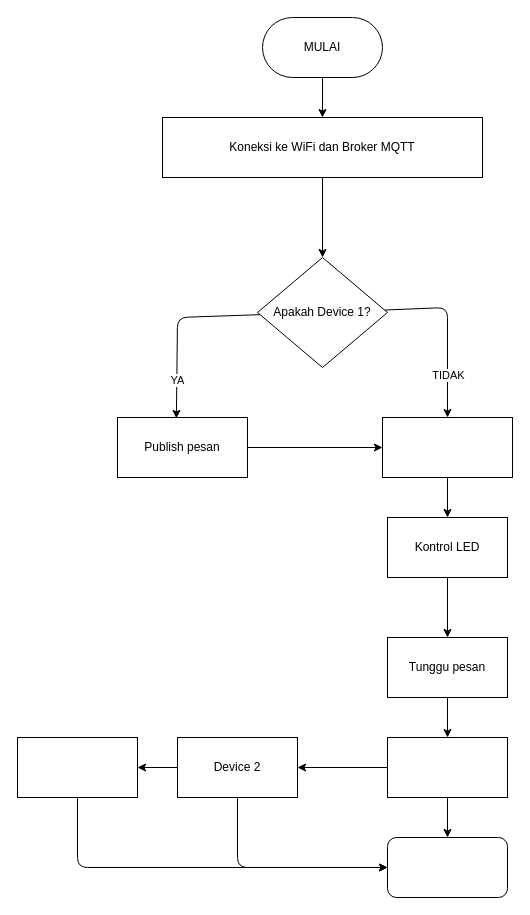
The diagram is 530 pixels wide and 915 high, and some of its shapes have lost their labels. Here are the shapes that lost their labels. From the top down, the centre of each, then its label:
At (447,447): "Subscribe ke ’data/bersama’".
At (77,767): "Device 3".
At (447,767): "Device 1".
At (447,867): "Selesai".
